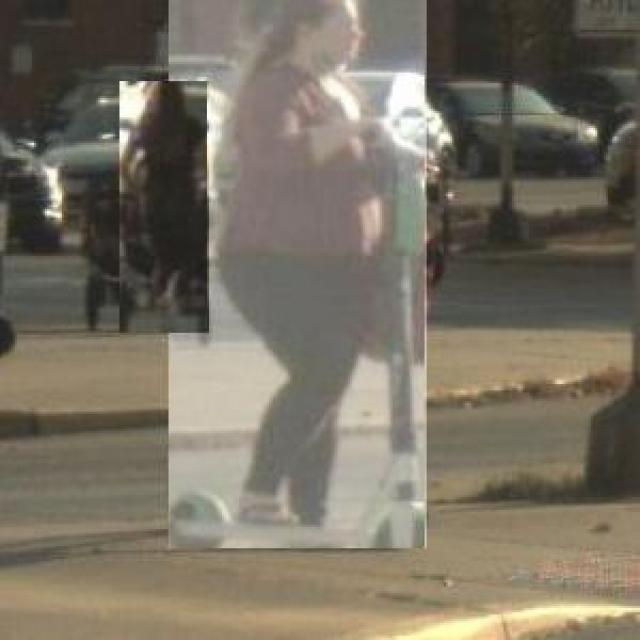pedestrian: (170, 0, 428, 548), (121, 81, 210, 333)
